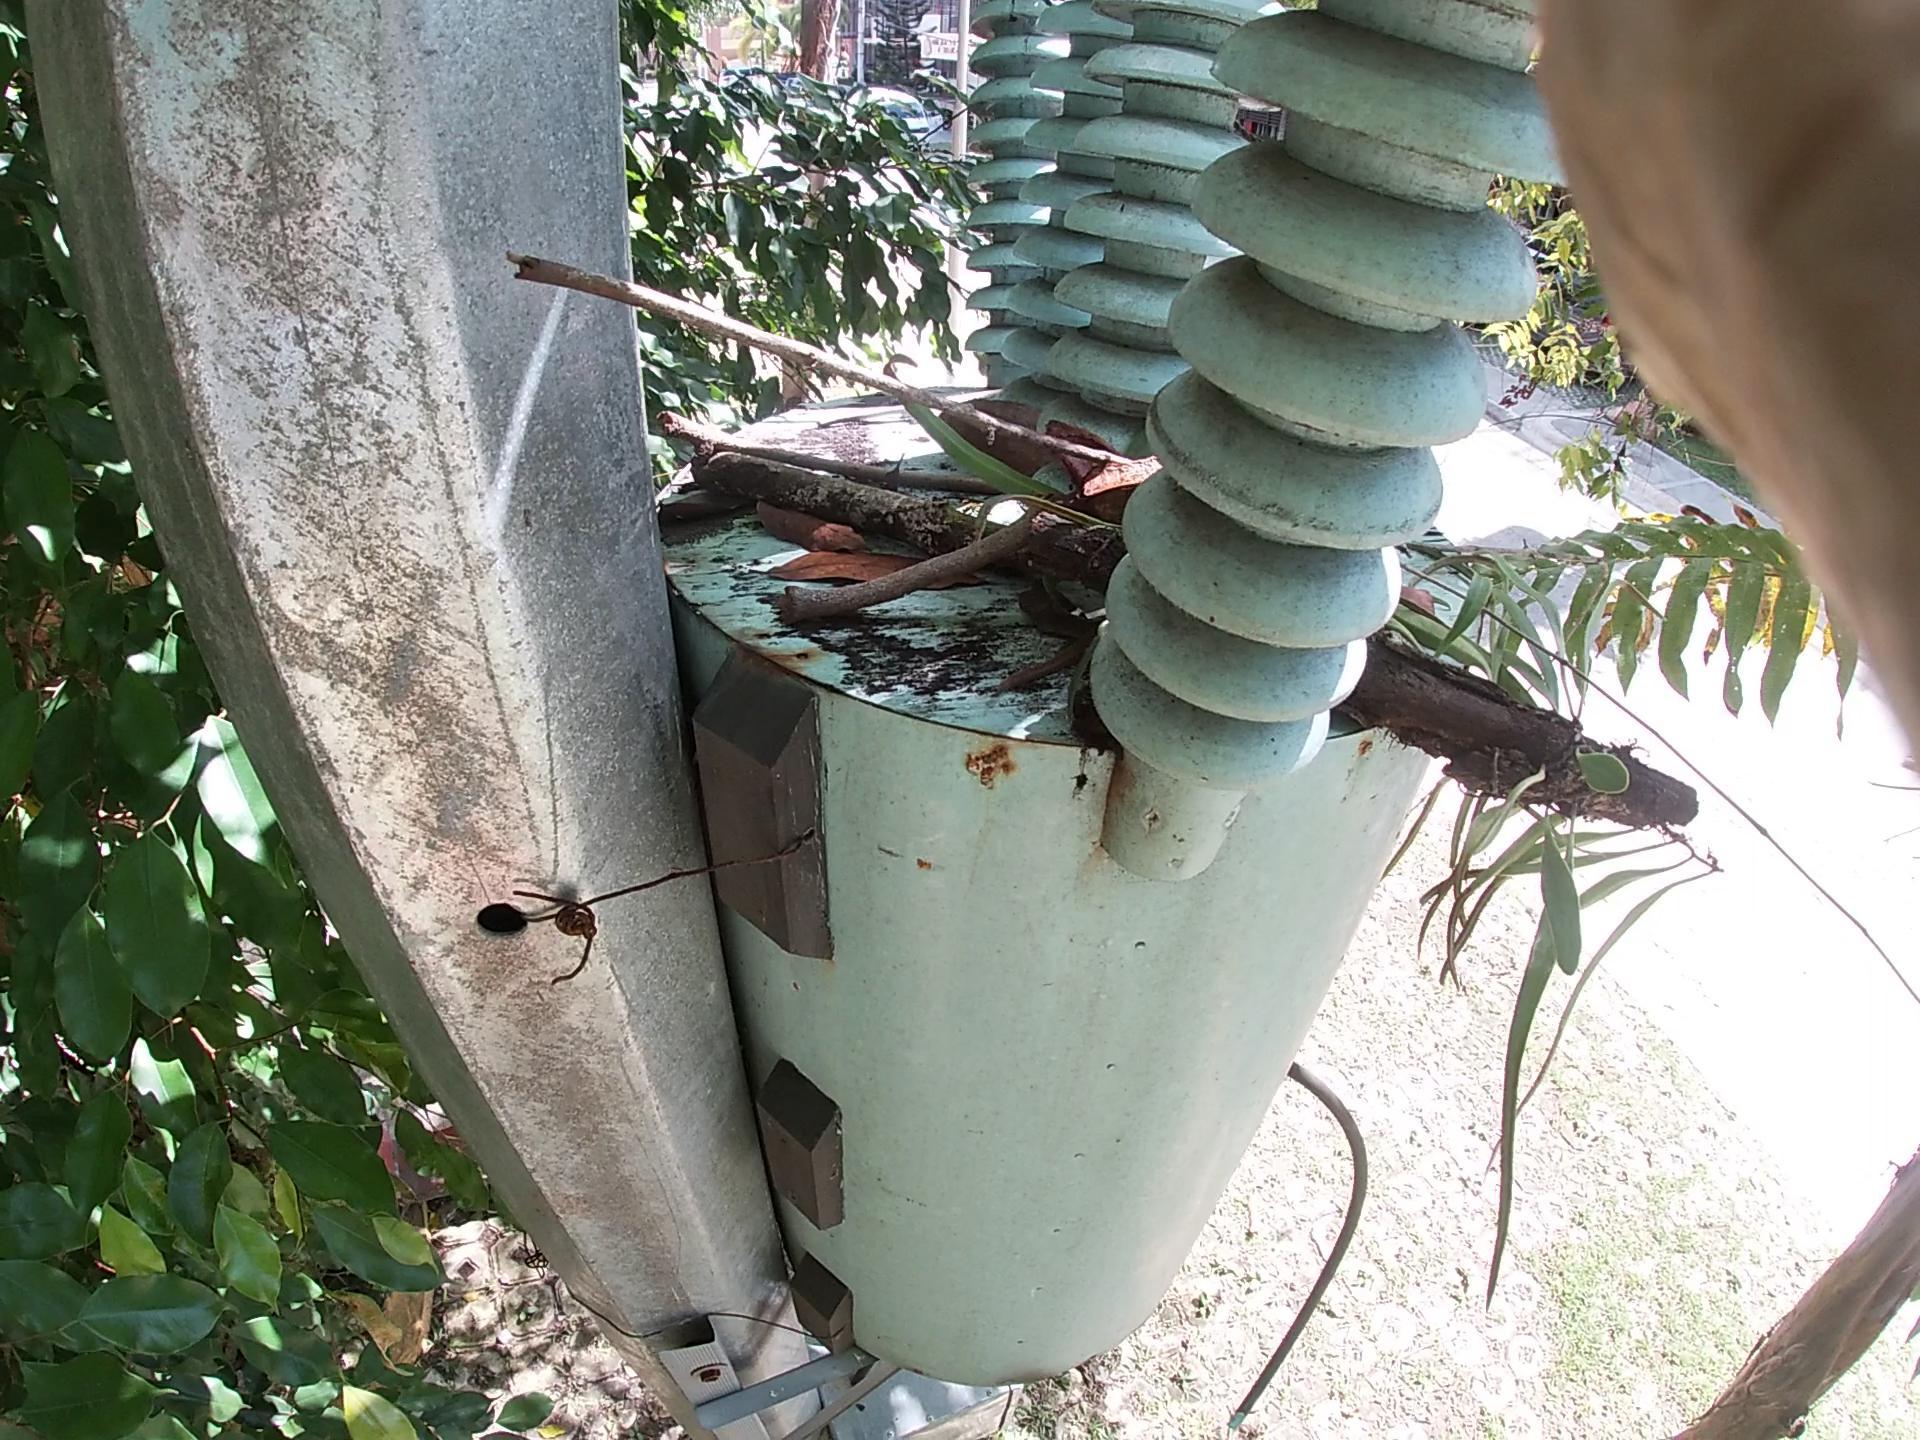branch with leaves: (680, 433, 1708, 862)
leaf: (762, 552, 995, 594), (745, 495, 868, 551)
mahogany fruit: (965, 390, 1200, 551)
tree branch: (503, 241, 1141, 523), (646, 405, 1031, 507), (773, 510, 1063, 626)
